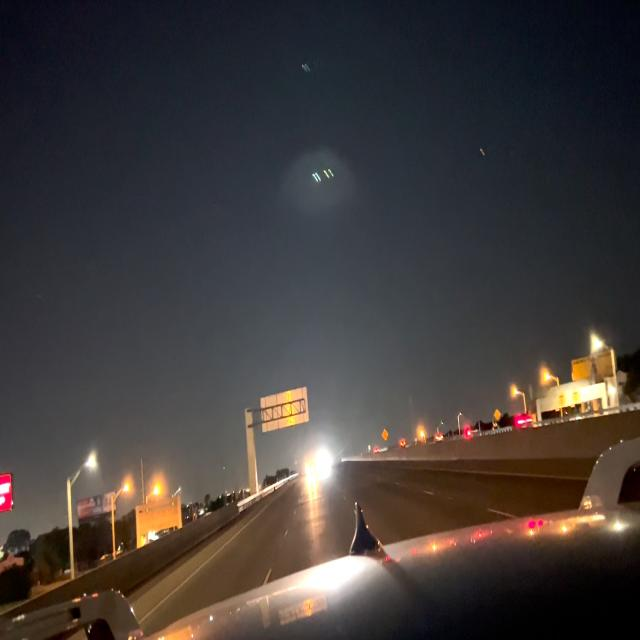back-of-sign: (259, 384, 309, 436)
